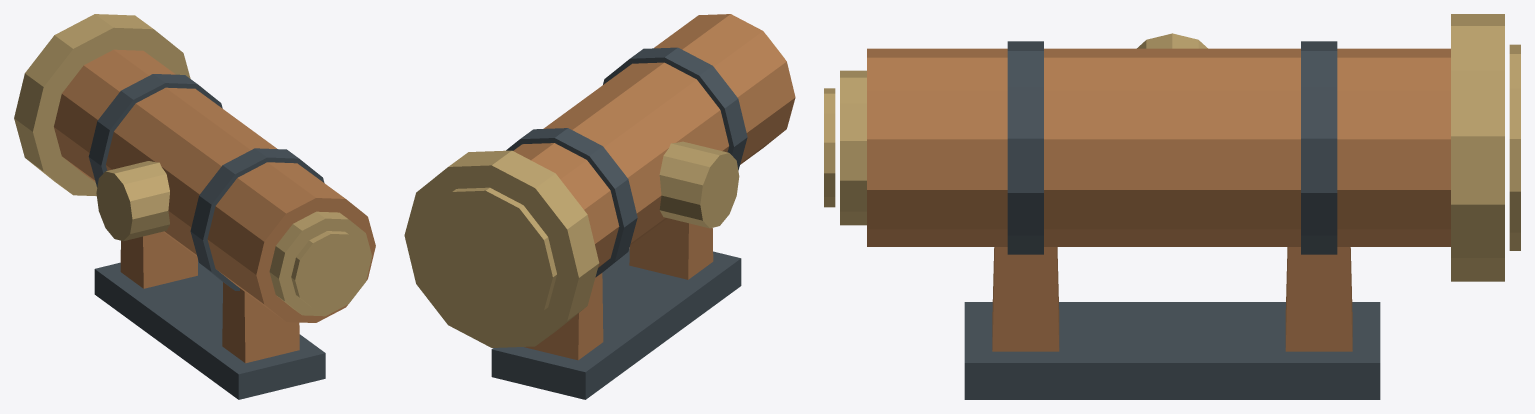
The model's file is AEW_Scope_AmberDial.fbx.
The picture shows the model from 3 angles, left to right: view 1: azimuth 30°, elevation 25°; view 2: azimuth 150°, elevation 25°; view 3: azimuth 270°, elevation 25°; orthographic projection. The views are drawn at different scales.
Parts seen in each view (by area): view 1: AEW_Scope_AmberDial; view 2: AEW_Scope_AmberDial; view 3: AEW_Scope_AmberDial.
Part boxes in pixels (box(x1,y1,x2,y2)): AEW_Scope_AmberDial: box(14, 14, 375, 399); AEW_Scope_AmberDial: box(404, 14, 795, 399); AEW_Scope_AmberDial: box(824, 14, 1520, 399).
Bounding box in the file's own units: 0.1298 × 0.1674 × 0.308.
